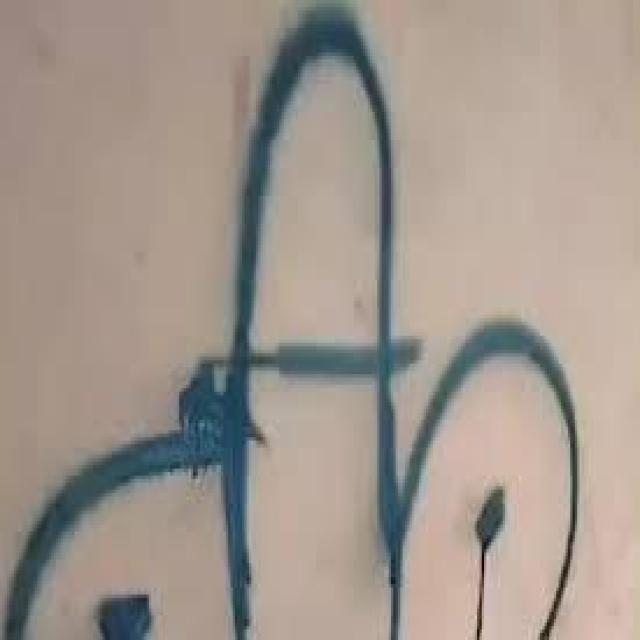nonspitting: (7, 3, 580, 640)
